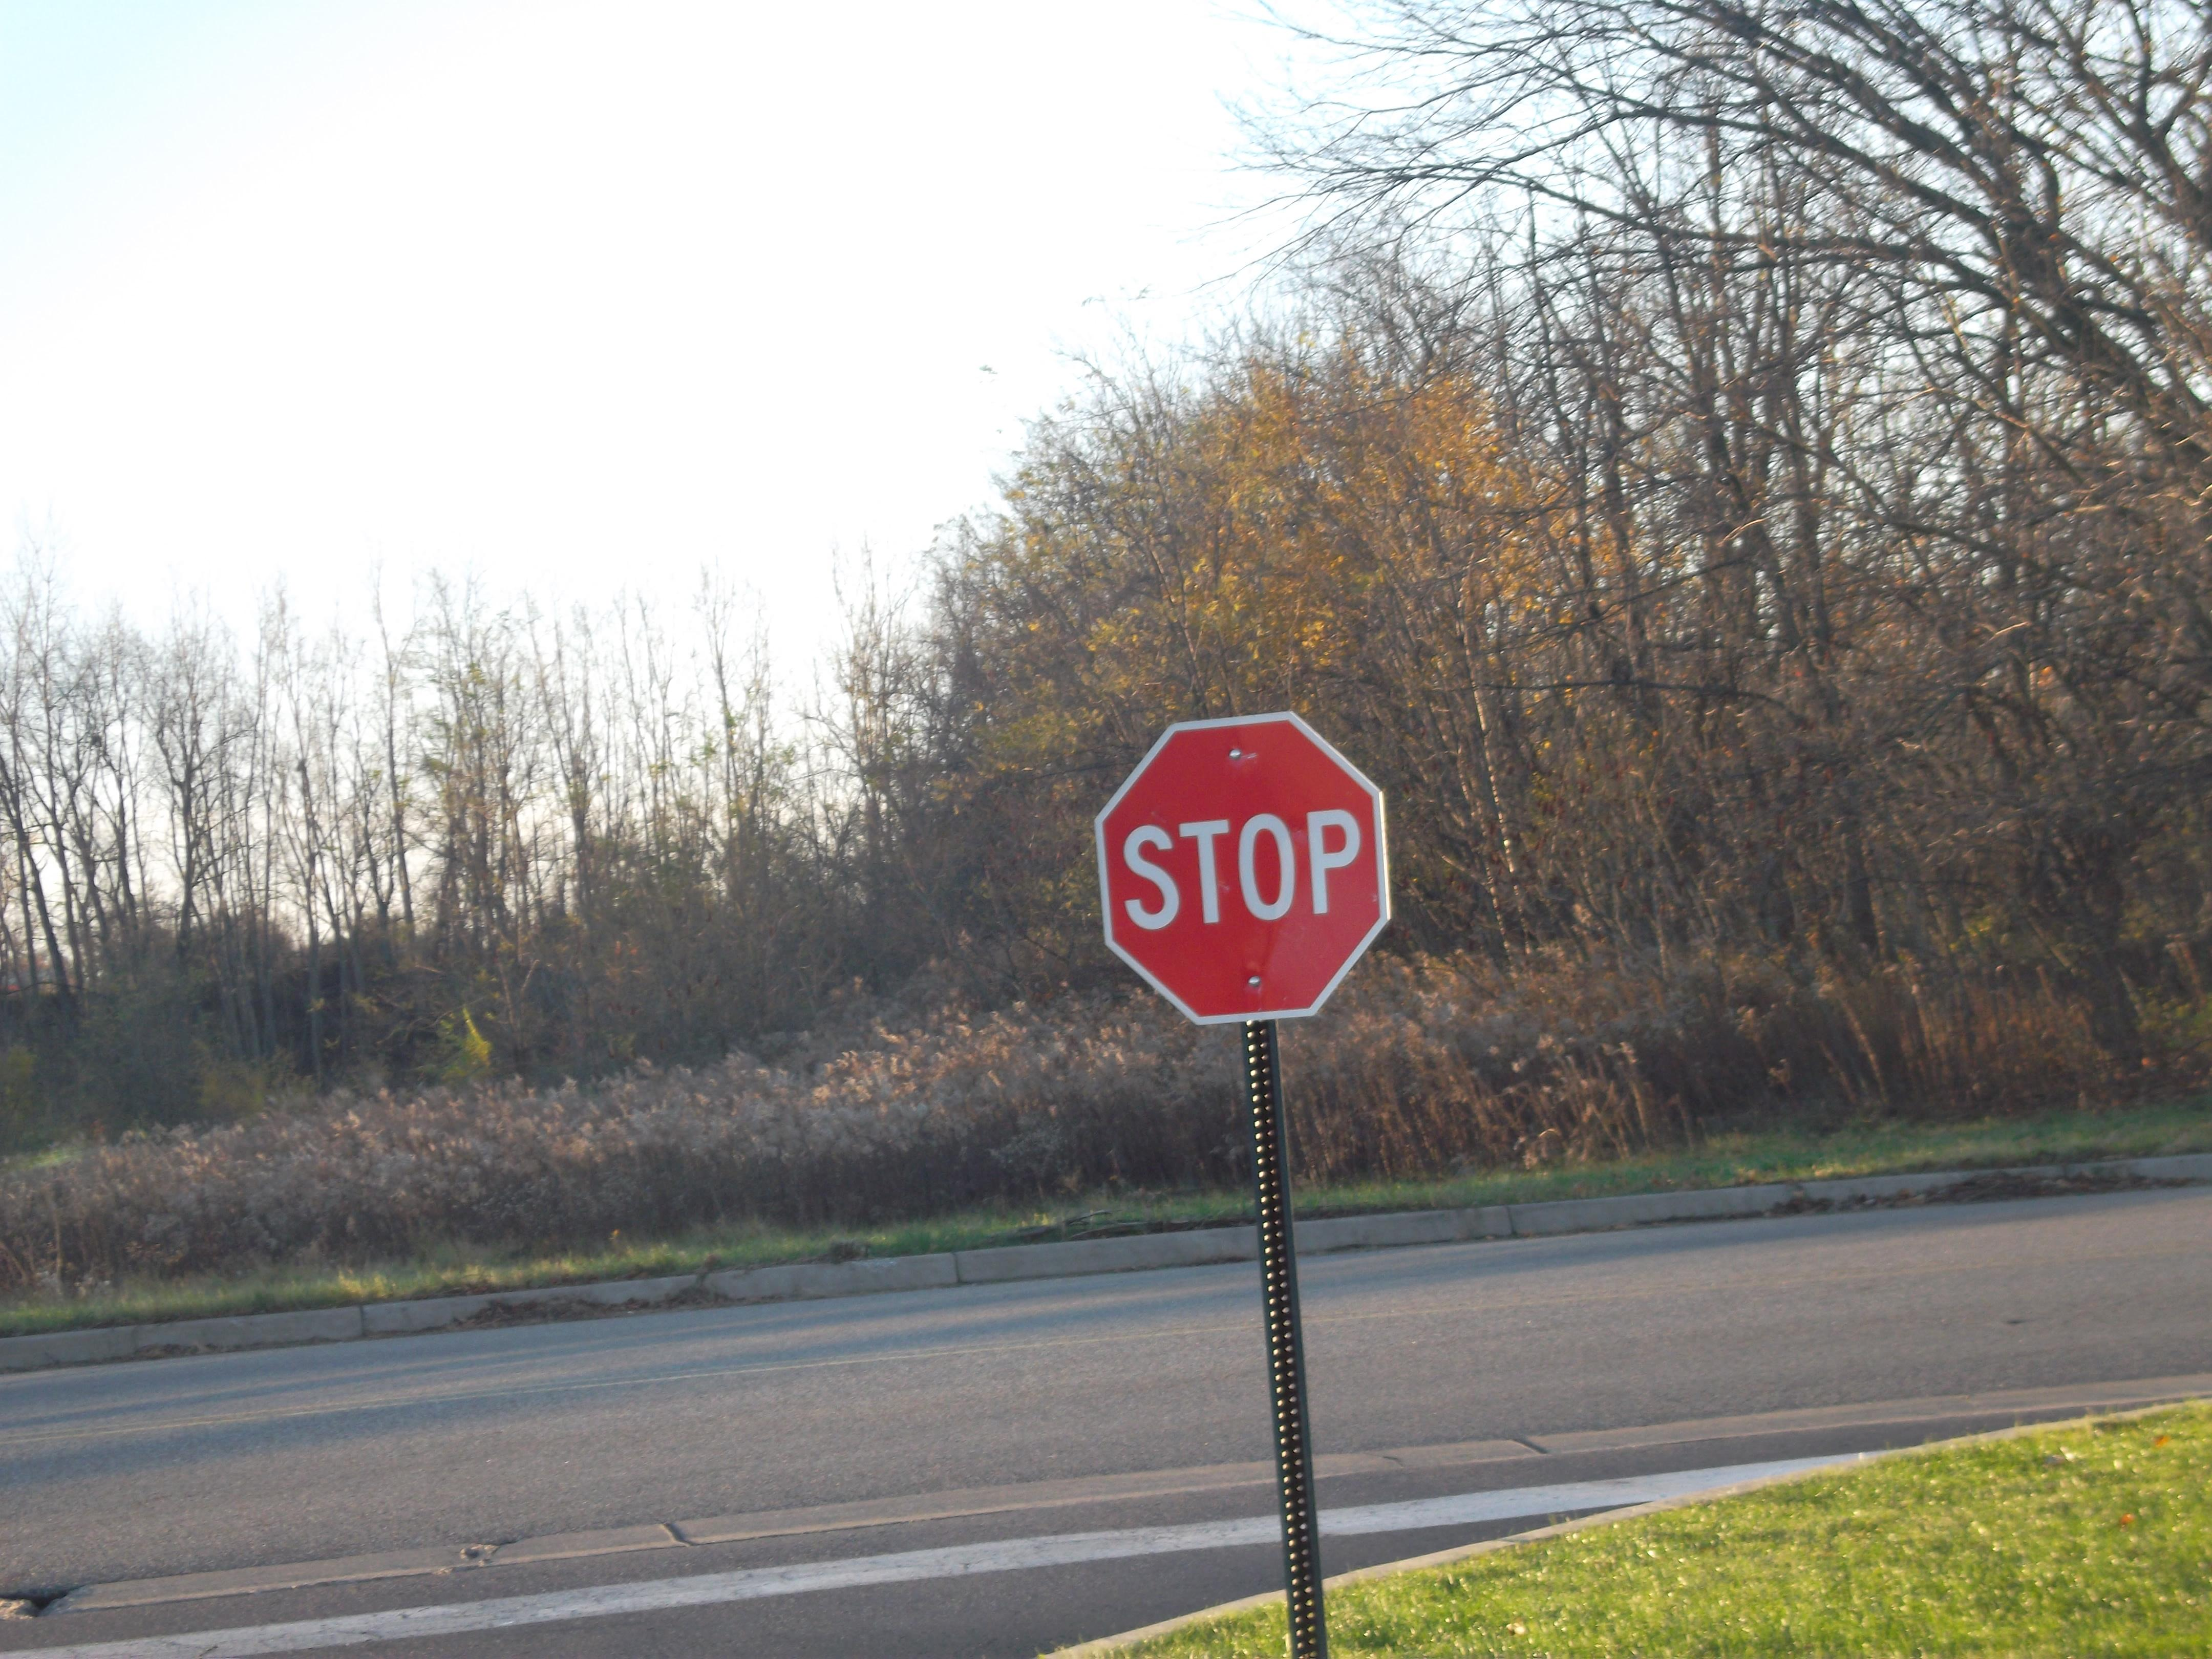stop: (1082, 713, 1404, 1035)
